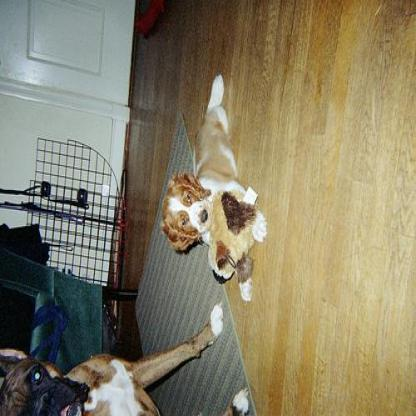Welsh_springer_spaniel: (158, 70, 267, 302)
